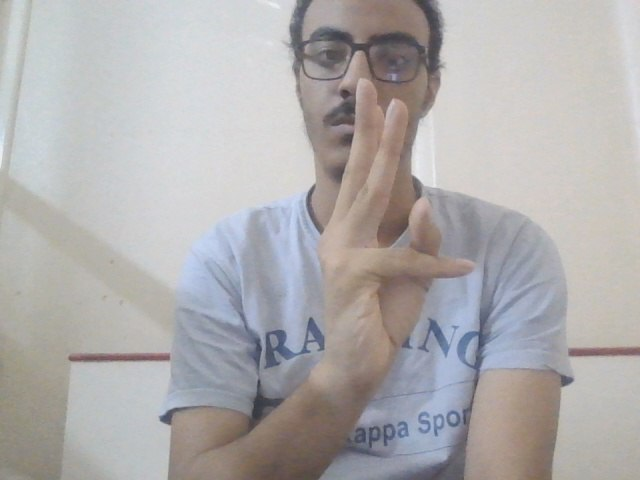Water: (312, 78, 475, 384)
